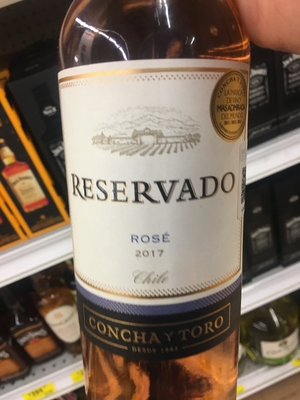reservado rose: (59, 13, 253, 400)
